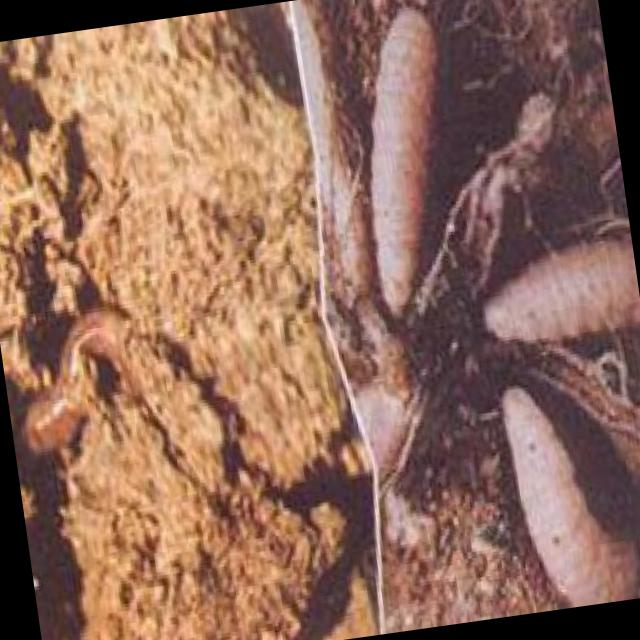whorl-maggot: (496, 379, 635, 599), (361, 2, 443, 324), (475, 223, 637, 346)
